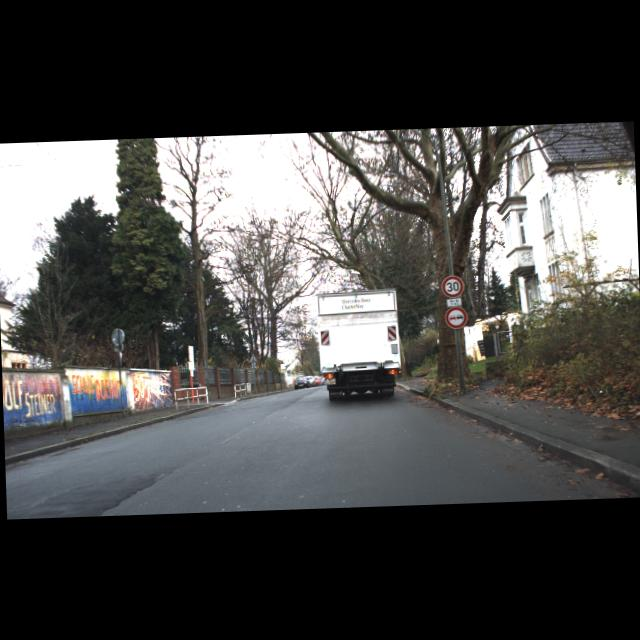prohibitory: (444, 306, 468, 329), (441, 275, 464, 298)
